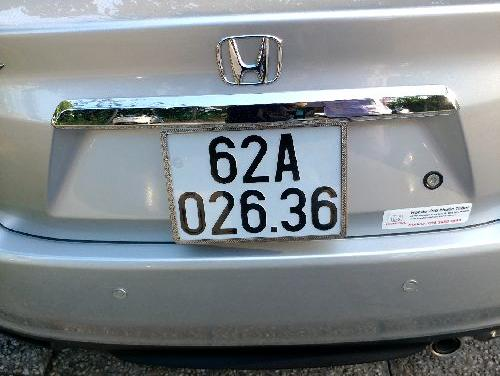lisence: (158, 120, 349, 246)
